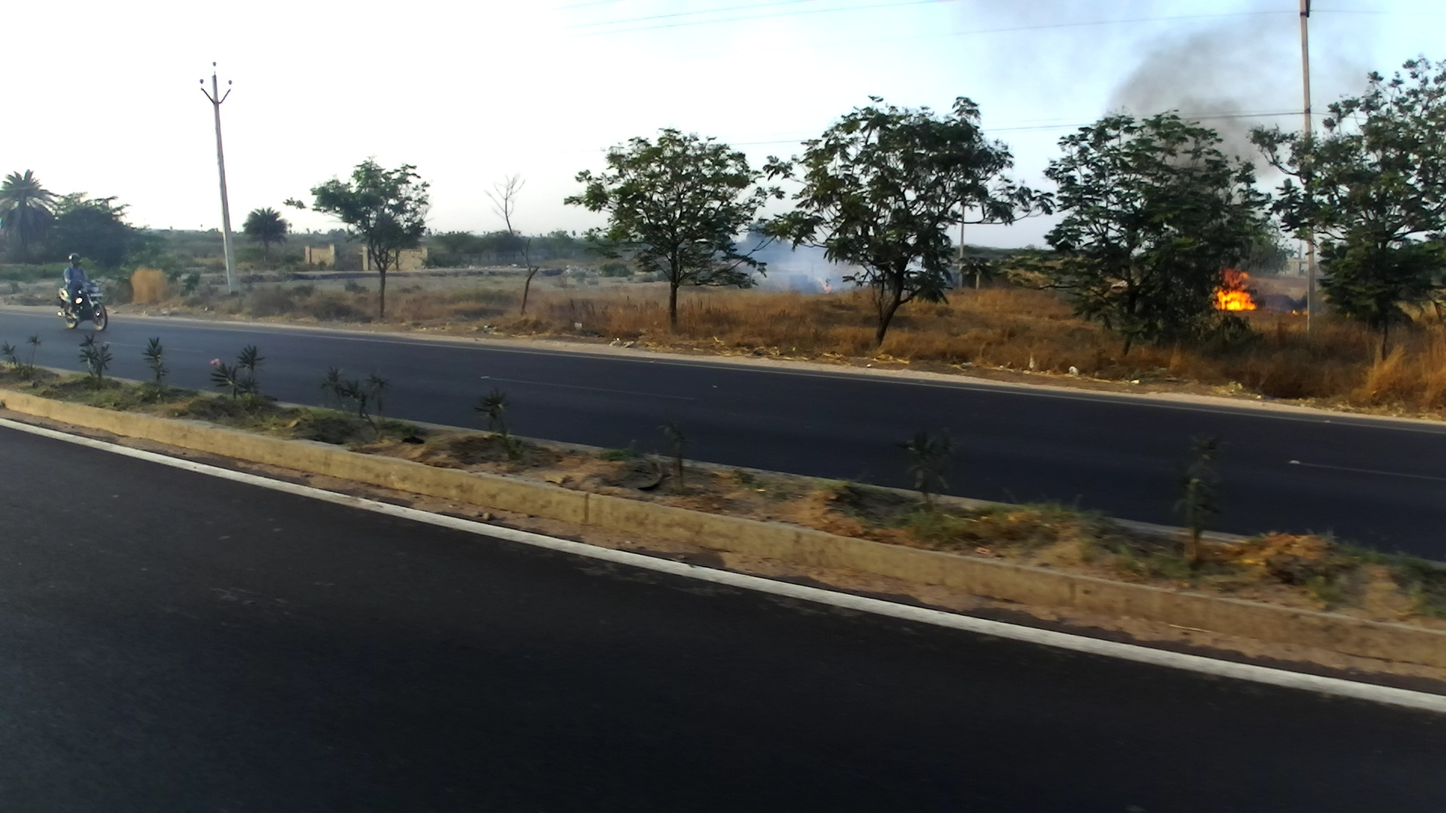motorcycle: (57, 274, 108, 333)
rider: (60, 255, 95, 328)
